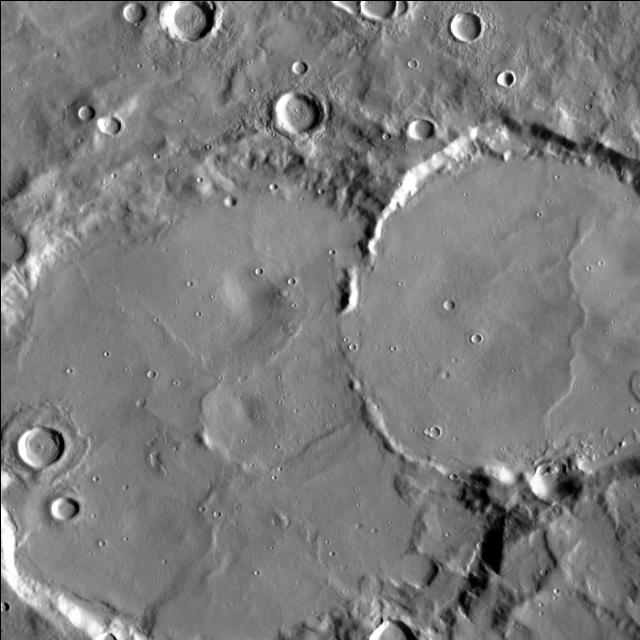crater: (0, 146, 556, 640), (333, 124, 640, 490), (524, 456, 574, 501), (267, 86, 317, 130), (10, 421, 58, 463), (154, 0, 207, 38), (388, 548, 430, 584), (362, 617, 412, 640), (443, 8, 475, 38), (44, 492, 74, 516), (354, 0, 391, 18), (401, 114, 428, 138), (90, 112, 114, 134), (116, 0, 140, 19), (86, 627, 111, 640), (377, 0, 401, 13), (284, 56, 300, 72), (72, 102, 88, 118), (490, 68, 508, 82), (215, 192, 230, 204), (421, 424, 433, 434), (437, 296, 447, 306), (374, 129, 384, 137), (463, 332, 472, 340), (140, 367, 149, 375), (401, 56, 409, 64), (262, 178, 270, 186), (279, 276, 287, 282), (424, 417, 432, 423), (248, 264, 256, 270), (213, 502, 220, 508)
